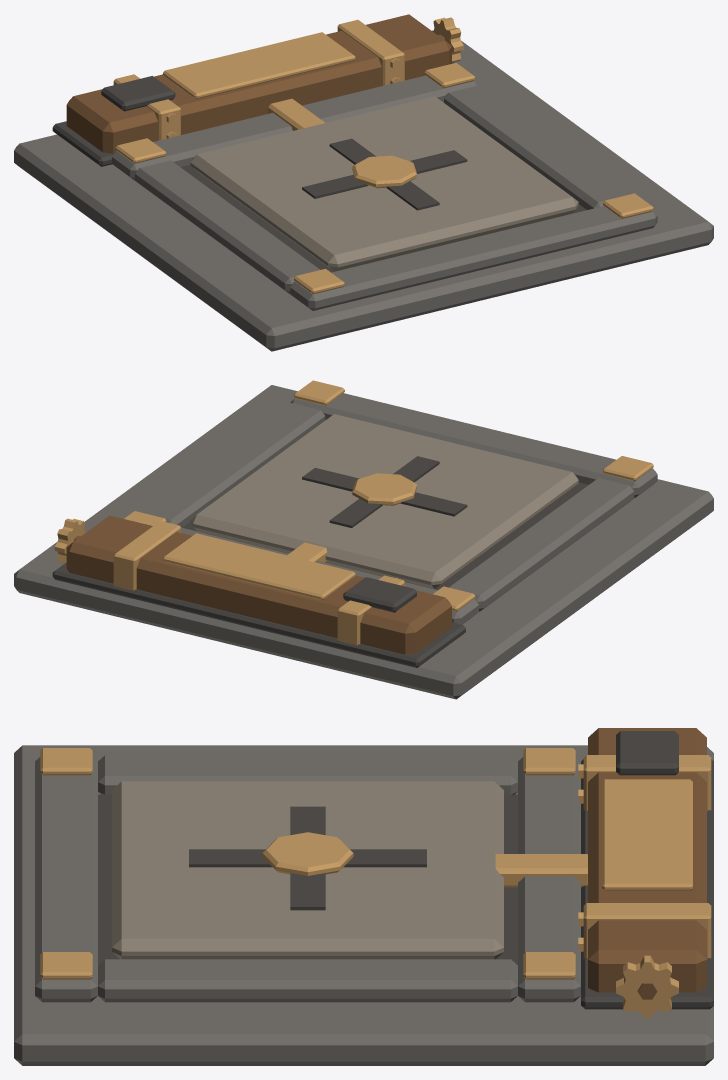
The model's file is trap.glb.
The picture shows the model from 3 angles, top to bottom: view 1: azimuth 30°, elevation 25°; view 2: azimuth 150°, elevation 25°; view 3: azimuth 270°, elevation 25°; orthographic projection. The views are drawn at different scales.
Visible parts, largest first — view 1: floor_tile, pressure_plate, mechanism_housing, rim_front, rim_left, rim_back, rim_right, housing_cap, plate_boss, release_vent, housing_strap_r, plate_pit (+10 smaller); view 2: floor_tile, pressure_plate, mechanism_housing, rim_front, rim_left, rim_right, housing_cap, housing_plinth, housing_strap_r, plate_boss, release_vent, plate_rune_bar_x (+9 smaller); view 3: pressure_plate, floor_tile, rim_right, mechanism_housing, rim_front, rim_left, rim_back, housing_cap, plate_pit, housing_plinth, plate_boss, plate_rune_bar_y (+10 smaller).
Part boxes in pixels (bbox=[...]): floor_tile: bbox=[14, 40, 713, 351]; pressure_plate: bbox=[190, 96, 578, 271]; mechanism_housing: bbox=[66, 14, 451, 153]; rim_front: bbox=[290, 206, 657, 310]; rim_left: bbox=[135, 160, 319, 293]; rim_back: bbox=[112, 75, 478, 180]; rim_right: bbox=[444, 85, 628, 209]; housing_cap: bbox=[163, 32, 355, 99]; plate_boss: bbox=[352, 155, 416, 188]; release_vent: bbox=[101, 76, 175, 111]; housing_strap_r: bbox=[337, 19, 404, 85]; plate_pit: bbox=[180, 165, 586, 272]; floor_tile: bbox=[14, 385, 713, 699]; pressure_plate: bbox=[190, 414, 578, 588]; mechanism_housing: bbox=[66, 515, 451, 654]; rim_front: bbox=[290, 393, 657, 497]; rim_left: bbox=[449, 478, 634, 611]; rim_right: bbox=[140, 402, 325, 527]; housing_cap: bbox=[163, 533, 355, 600]; housing_plinth: bbox=[52, 562, 465, 667]; housing_strap_r: bbox=[113, 521, 180, 590]; plate_boss: bbox=[352, 473, 416, 505]; release_vent: bbox=[343, 577, 416, 612]; plate_rune_bar_x: bbox=[302, 468, 467, 516]; pressure_plate: bbox=[112, 781, 503, 959]; floor_tile: bbox=[14, 745, 713, 1065]; rim_right: bbox=[98, 959, 517, 1002]; mechanism_housing: bbox=[588, 728, 706, 992]; rim_front: bbox=[35, 757, 97, 1002]; rim_left: bbox=[98, 755, 517, 794]; rim_back: bbox=[518, 757, 580, 1002]; housing_cap: bbox=[602, 779, 692, 890]; plate_pit: bbox=[98, 794, 517, 965]; housing_plinth: bbox=[581, 759, 713, 1009]; plate_boss: bbox=[262, 832, 353, 875]; plate_rune_bar_y: bbox=[189, 849, 426, 867].
Size of what is drawn, in the model's own units: 1 by 0.149 by 1.
